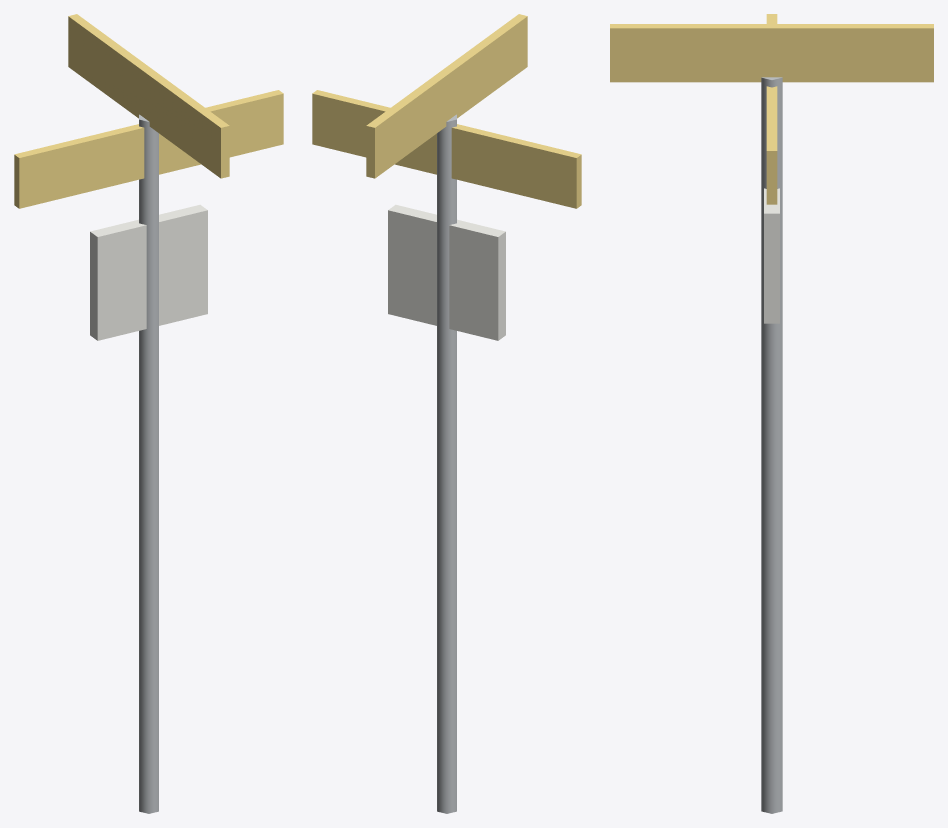
File: street_sign.glb
The picture shows the model from 3 angles, left to right: view 1: azimuth 30°, elevation 25°; view 2: azimuth 150°, elevation 25°; view 3: azimuth 270°, elevation 25°; orthographic projection. The views are drawn at different scales.
Visible parts, largest first — view 1: street_sign; view 2: street_sign; view 3: street_sign.
Part boxes in pixels (x1,y1,x2,y2): street_sign: (14,14,283,813); street_sign: (312,14,581,813); street_sign: (610,14,933,813).
Bounding box in the file's own units: 1.2 × 3.2 × 1.2.
